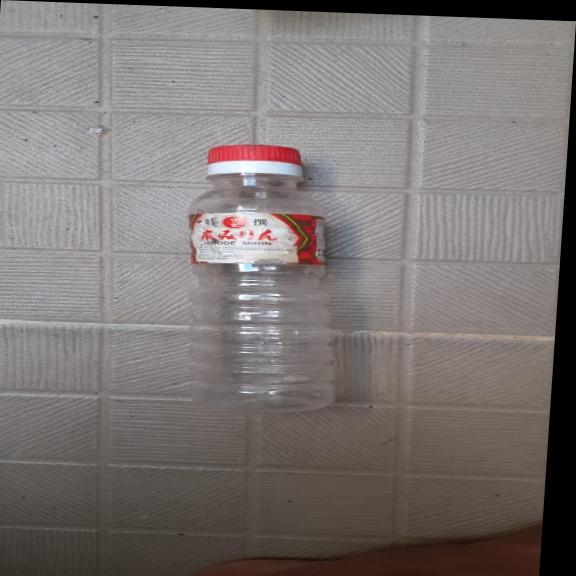Plastik: (167, 141, 359, 416)
